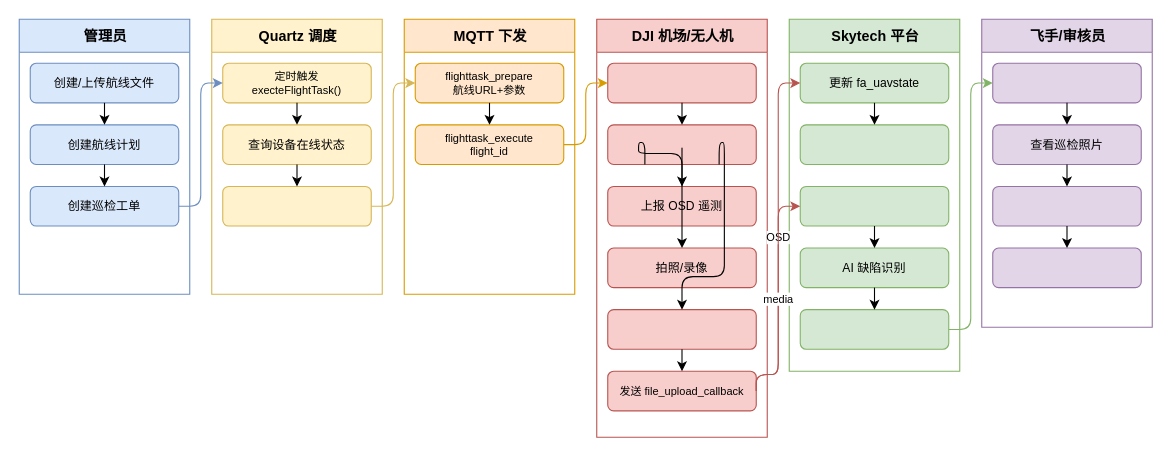
This 1172x457 diagram has some shape labels left out. The shapes that lost their labels are listed below. From the top down, each one's centre as x and y in pixels, then its label:
At (x=681, y=82): "下载航线文件 (MinIO)".
At (x=1066, y=82): "查看飞行轨迹回放".
At (x=681, y=144): "执行飞行任务".
At (x=874, y=144): "WebSocket 推送前端".
At (x=296, y=205): "创建 WaylineJob 记录".
At (x=874, y=205): "创建 media_file + 杆塔匹配".
At (x=1066, y=205): "审核 AI 缺陷 （确认/误报）".
At (x=1066, y=267): "生成巡检报告".
At (x=681, y=329): "上传媒体到 MinIO".
At (x=874, y=329): "创建 media_file_defect".
